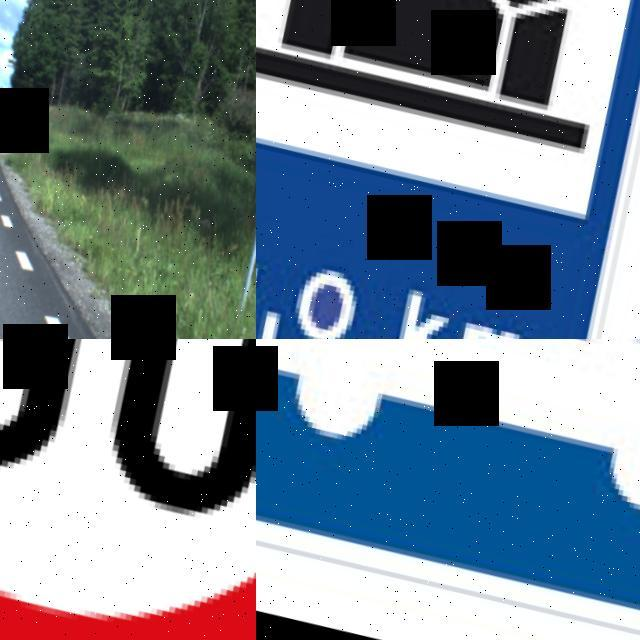69: (256, 339, 640, 640)
speed limit-90: (0, 339, 256, 640)
tunnel in 2 km: (256, 0, 640, 339)
